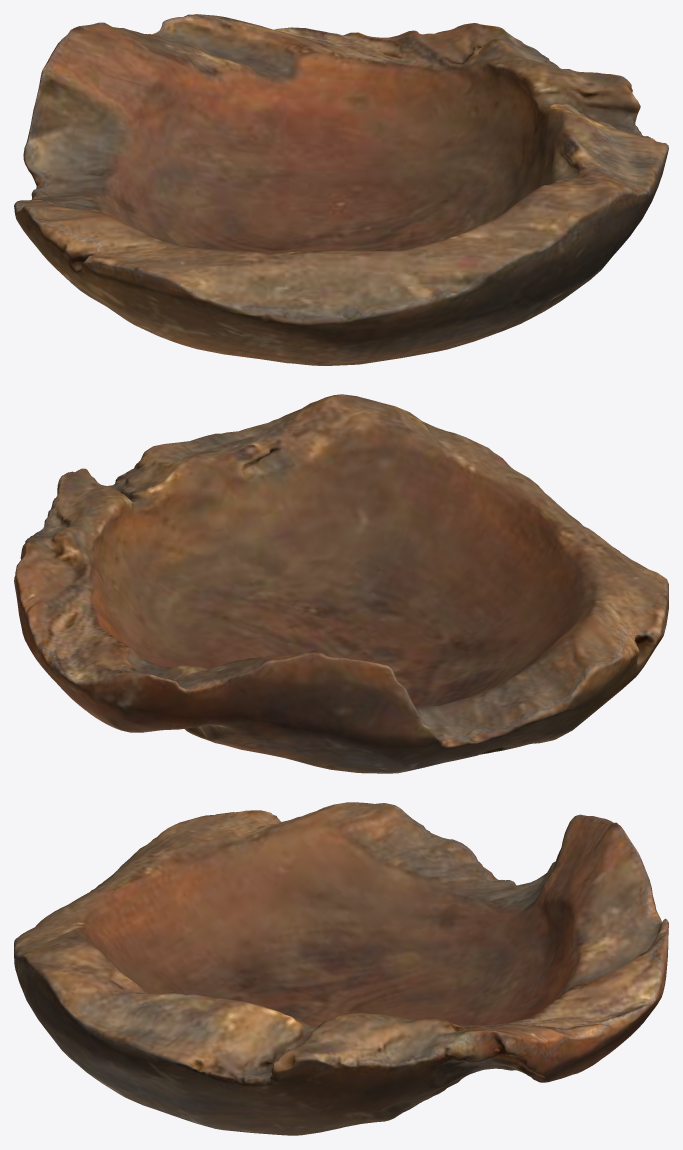
3 views of the same model, one above another, from view 1: azimuth 30°, elevation 25°; view 2: azimuth 150°, elevation 25°; view 3: azimuth 270°, elevation 25° (orthographic). The views are drawn at different scales.
Parts seen in each view (by area): view 1: wooden_bowl_01; view 2: wooden_bowl_01; view 3: wooden_bowl_01.
Boxes of the visible parts, <box> form: wooden_bowl_01: <box>14,14,668,365</box>; wooden_bowl_01: <box>14,394,668,773</box>; wooden_bowl_01: <box>14,802,668,1135</box>.
Size of the model in its own units: 0.3131 by 0.0937 by 0.3091.
Materials: 1 (1 with a texture image).
